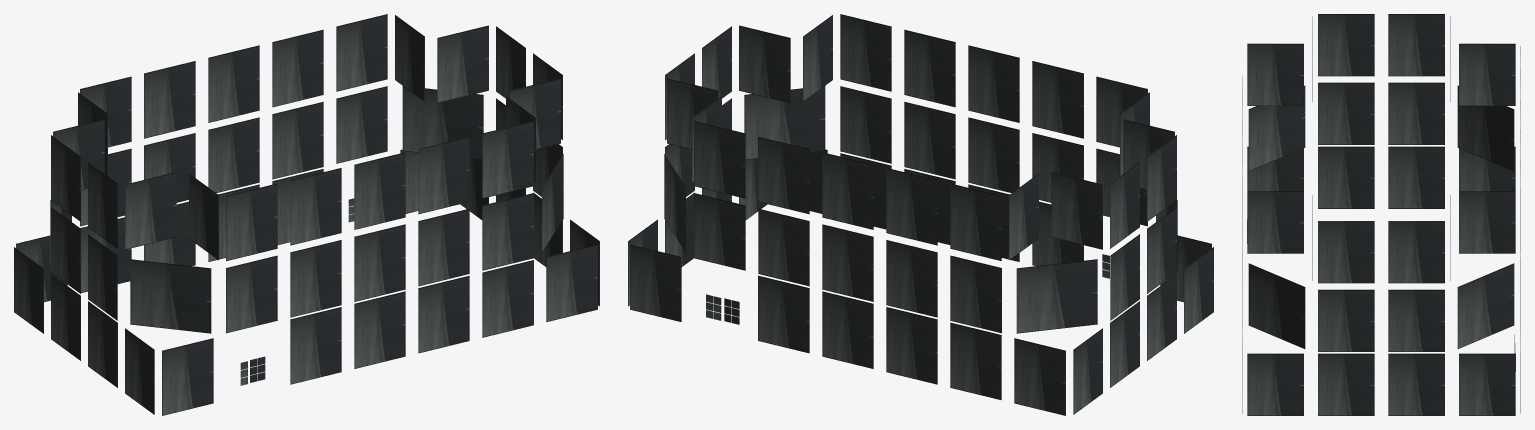
The model's file is TRANS_Building_3Stores_StockExpo.obj.
3 views of the same model, side by side, from view 1: azimuth 30°, elevation 25°; view 2: azimuth 150°, elevation 25°; view 3: azimuth 270°, elevation 25° (orthographic). The views are drawn at different scales.
Parts seen in each view (by area): view 1: TRANS_Building_3Stores_StockExpo; view 2: TRANS_Building_3Stores_StockExpo; view 3: TRANS_Building_3Stores_StockExpo.
Boxes of the visible parts, box(x1,y1,x2,y2) form: TRANS_Building_3Stores_StockExpo: box(14, 14, 599, 415); TRANS_Building_3Stores_StockExpo: box(628, 14, 1213, 415); TRANS_Building_3Stores_StockExpo: box(1242, 14, 1520, 415).
Size of the model in its own units: 9.12 by 4 by 5.19.
